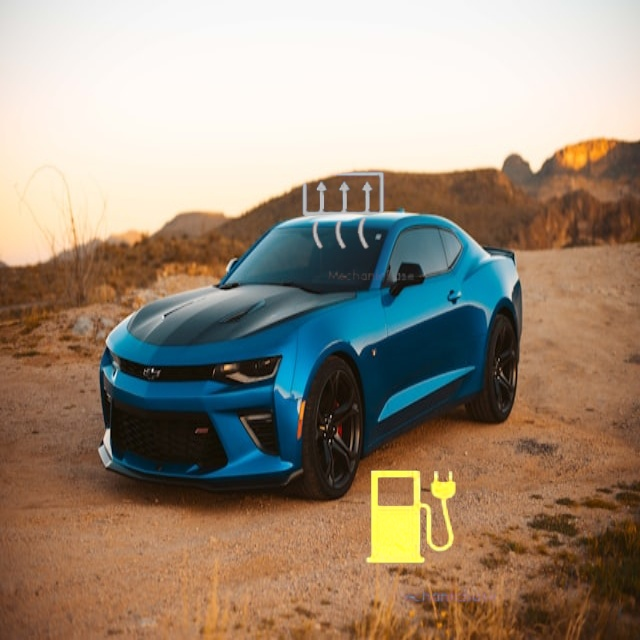symbol: (24, 41, 209, 226), (319, 426, 504, 611), (268, 136, 420, 288)
